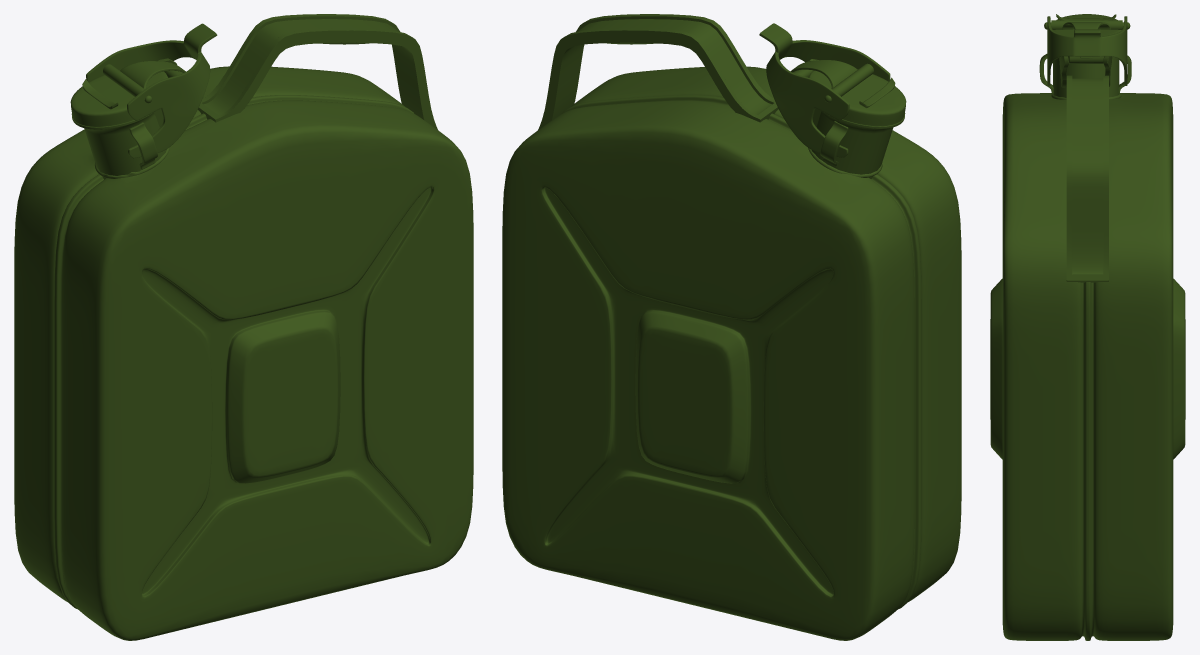
File: Canister.FBX
The picture shows the model from 3 angles, left to right: view 1: azimuth 30°, elevation 25°; view 2: azimuth 150°, elevation 25°; view 3: azimuth 270°, elevation 25°; orthographic projection. The views are drawn at different scales.
Visible parts, largest first — view 1: Box9263, Box9262, Box9260, Cylinder2249, Cylinder2250, Box9259, Box9264; view 2: Box9263, Box9262, Box9260, Cylinder2249, Cylinder2250, Box9259, Box9268; view 3: Box9263, Box9262, Box9260, Cylinder2250, Cylinder2249, Box9259, Tube099.
Part boxes in pixels (x1,y1,x2,y2): Box9263: (14, 66, 473, 640); Box9262: (198, 14, 437, 129); Box9260: (86, 23, 217, 158); Cylinder2249: (70, 69, 167, 129); Cylinder2250: (84, 112, 166, 179); Box9259: (120, 61, 185, 88); Box9264: (129, 122, 157, 169); Box9263: (502, 66, 961, 640); Box9262: (538, 14, 778, 129); Box9260: (759, 23, 890, 157); Cylinder2249: (809, 69, 906, 128); Cylinder2250: (811, 111, 893, 178); Box9259: (790, 60, 857, 88); Box9268: (820, 121, 848, 167); Box9263: (990, 93, 1185, 640); Box9262: (1066, 75, 1108, 282); Box9260: (1047, 16, 1127, 85); Cylinder2250: (1053, 56, 1119, 97); Cylinder2249: (1053, 14, 1121, 36); Box9259: (1062, 22, 1110, 58); Tube099: (1051, 20, 1122, 29).
Bounding box in the file's own units: 1039 × 1460 × 493.
